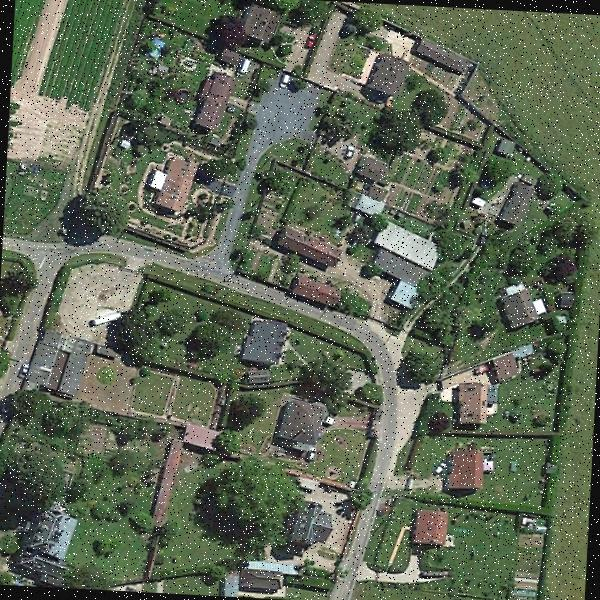Buildings: (64, 58, 127, 97), (277, 227, 337, 264), (276, 402, 327, 444), (408, 508, 452, 545), (248, 327, 294, 362), (450, 449, 490, 488), (312, 507, 358, 539), (416, 552, 462, 580), (484, 461, 518, 498), (456, 388, 490, 425), (242, 300, 280, 332), (291, 282, 338, 307), (222, 570, 285, 588), (170, 72, 212, 98), (437, 199, 470, 232), (154, 128, 188, 160), (503, 179, 529, 220), (499, 289, 535, 318), (213, 212, 250, 240), (400, 374, 434, 404), (372, 61, 407, 90), (388, 444, 428, 468), (204, 78, 226, 120), (42, 493, 78, 517), (124, 272, 147, 308), (370, 174, 405, 196), (191, 300, 224, 322), (144, 202, 174, 226), (255, 2, 272, 42), (474, 142, 504, 162), (430, 262, 451, 288), (581, 217, 600, 241), (372, 538, 404, 552)
